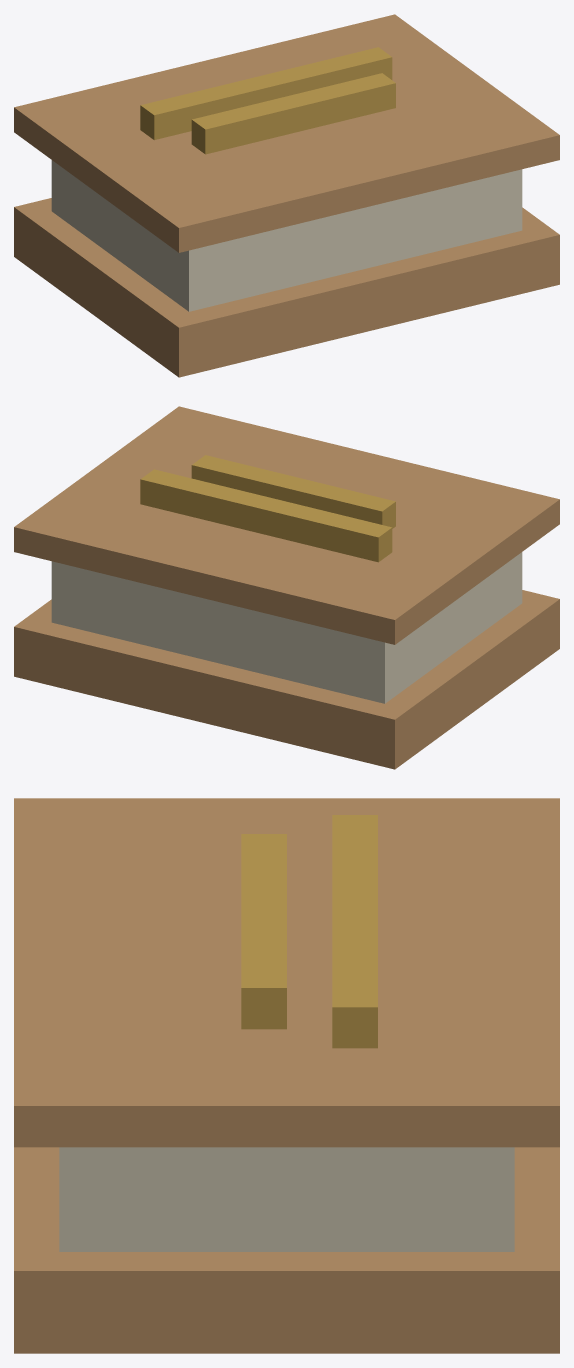
File: marketing-11.glb
3 views of the same model, one above another, from view 1: azimuth 30°, elevation 25°; view 2: azimuth 150°, elevation 25°; view 3: azimuth 270°, elevation 25° (orthographic). The views are drawn at different scales.
Visible parts, largest first — view 1: Strategy book; view 2: Strategy book; view 3: Strategy book.
Part boxes in pixels (bbox=[...]): Strategy book: bbox=[14, 14, 559, 377]; Strategy book: bbox=[14, 406, 559, 769]; Strategy book: bbox=[14, 798, 559, 1353].
Bounding box in the file's own units: 1.28 × 0.56 × 0.96.
